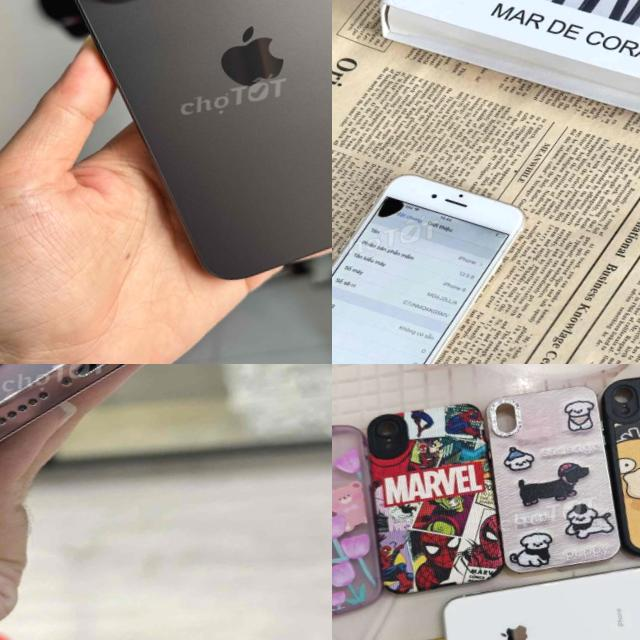gen_14: (0, 364, 303, 477)
gen_15: (15, 0, 332, 313)
gen_6: (332, 151, 563, 364)
gen_x_xs: (435, 554, 640, 640)
